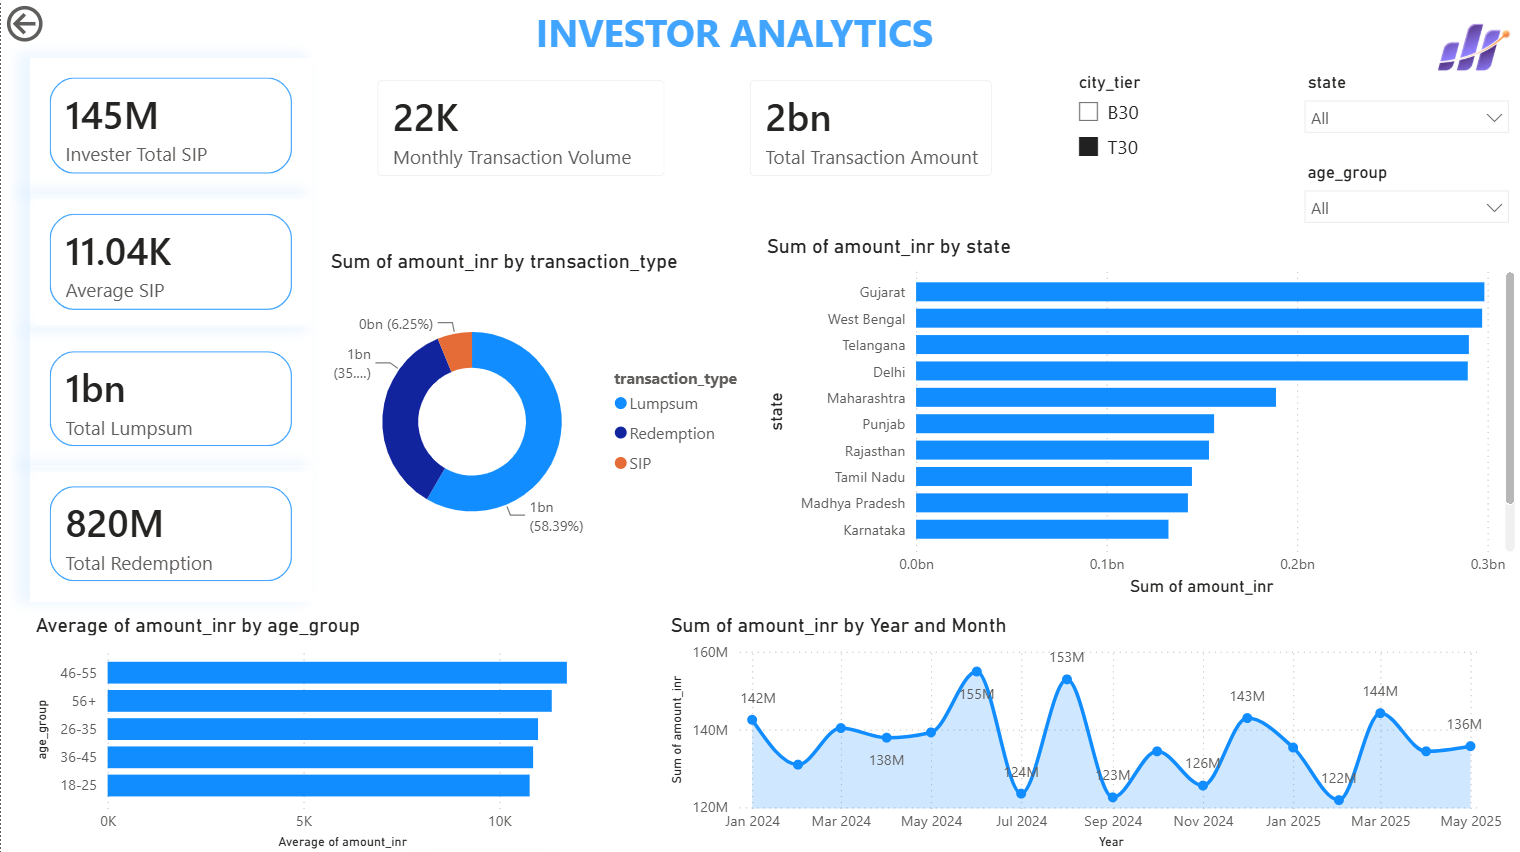

The page's visual inventory and layout, read from the dashboard file:
{"tool":"powerbi","page":{"name":"Dashboard - Page 3","canvas":[1280,720],"ordinal":2},"visuals":[{"type":"textbox","box":[175.6,0,893,55.8],"z":0},{"type":"cardVisual","fields":{"Data":["All Measures.Total Transaction Amount"]},"box":[613.4,50.7,238.3,115.3],"z":1000},{"type":"cardVisual","fields":{"Data":["All Measures.Invester Total SIP"]},"box":[24.1,48.2,238.3,115.3],"z":2000},{"type":"cardVisual","fields":{"Data":["All Measures.Total Lumpsum"]},"box":[24.1,278.8,238.3,114.1],"z":3000},{"type":"cardVisual","fields":{"Data":["All Measures.Total Redemption"]},"box":[24.1,392.9,238.3,114.1],"z":4000},{"type":"cardVisual","fields":{"Data":["All Measures.Average SIP"]},"box":[24.1,163.5,238.3,115.3],"z":5000},{"type":"cardVisual","fields":{"Data":["All Measures.Monthly Transaction Volume"]},"box":[300.4,50.7,276.3,115.3],"z":6000},{"type":"clusteredBarChart","fields":{"Y":["Sum(investor_transactions.amount_inr)"],"Category":["investor_transactions.state"]},"box":[640,196.4,640,310.5],"z":7000},{"type":"donutChart","fields":{"Category":["investor_transactions.transaction_type"],"Y":["Sum(investor_transactions.amount_inr)"]},"box":[272.5,209.1,367.5,272.5],"z":8000},{"type":"clusteredBarChart","fields":{"Category":["investor_transactions.age_group"],"Y":["Avg(investor_transactions.amount_inr)"]},"box":[24.1,515.8,476.5,204],"z":9000},{"type":"actionButton","box":[0,0,100,40],"z":10000},{"type":"lineChart","fields":{"Y":["Sum(investor_transactions.amount_inr)"],"Category":["investor_transactions.transaction_date.Variation.Date Hierarchy.Year","investor_transactions.transaction_date.Variation.Date Hierarchy.Month"]},"box":[558.9,515.8,709.7,204],"z":11000},{"type":"slicer","fields":{"Values":["investor_transactions.state"]},"box":[1087.4,55.8,192.6,76],"z":12000},{"type":"slicer","fields":{"Values":["investor_transactions.age_group"]},"box":[1087.4,131.8,192.6,64.6],"z":13000},{"type":"slicer","fields":{"Values":["investor_transactions.city_tier"]},"box":[894.7,55.8,192.6,107.7],"z":14000},{"type":"image","box":[1200.2,0,79.8,79.8],"z":15000}]}

Visuals, with their boxes in screenshot pixels (x1, y1, x2, y2), scaled from the page's 1280x720 canvas onto the 1520x852 screenshot:
textbox: 209 0 1269 66
cardVisual - All Measures.Total Transaction Amount: 728 60 1011 196
cardVisual - All Measures.Invester Total SIP: 29 57 312 193
cardVisual - All Measures.Total Lumpsum: 29 330 312 465
cardVisual - All Measures.Total Redemption: 29 465 312 600
cardVisual - All Measures.Average SIP: 29 193 312 330
cardVisual - All Measures.Monthly Transaction Volume: 357 60 685 196
clusteredBarChart - Sum(investor_transactions.amount_inr) x investor_transactions.state: 760 232 1519 600
donutChart - investor_transactions.transaction_type x Sum(investor_transactions.amount_inr): 324 247 760 570
clusteredBarChart - investor_transactions.age_group x Avg(investor_transactions.amount_inr): 29 610 594 851
actionButton: 0 0 119 47
lineChart - Sum(investor_transactions.amount_inr) x investor_transactions.transaction_date.Variation.Date Hierarchy.Year: 664 610 1506 851
slicer - investor_transactions.state: 1291 66 1519 156
slicer - investor_transactions.age_group: 1291 156 1519 232
slicer - investor_transactions.city_tier: 1062 66 1291 193
image: 1425 0 1519 94
